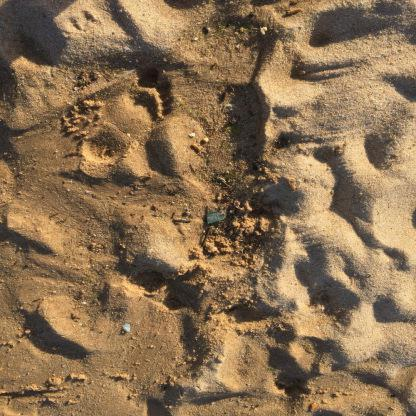Cigarette: (286, 7, 301, 15), (191, 144, 202, 154), (309, 403, 317, 412)
Other plastic: (207, 210, 229, 224)
